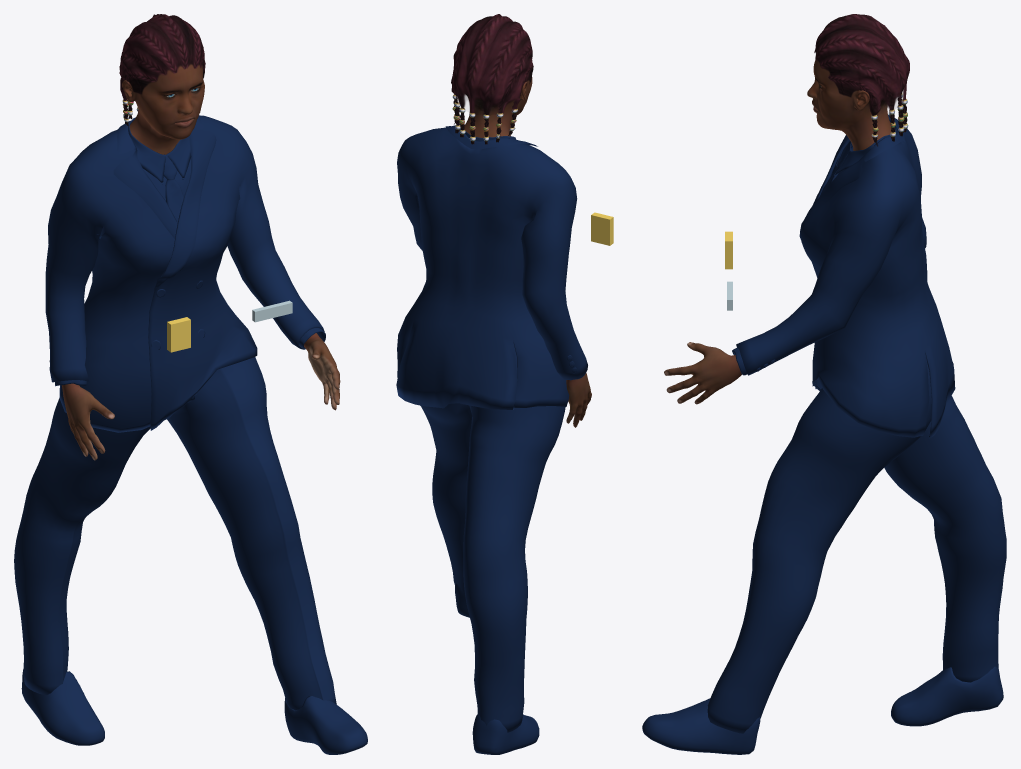
Rendered from polizia-donna.glb.
3 views of the same model, side by side, from view 1: azimuth 30°, elevation 25°; view 2: azimuth 150°, elevation 25°; view 3: azimuth 270°, elevation 25° (orthographic). The views are drawn at different scales.
Visible parts, largest first — view 1: Human.toigo_female_double-breasted_suit, Human, Human.shoes05, Human.elvs_braided_rows, Distintivo; view 2: Human.toigo_female_double-breasted_suit, Human.elvs_braided_rows, Human, Human.shoes05, Distintivo; view 3: Human.toigo_female_double-breasted_suit, Human.shoes05, Human.elvs_braided_rows, Human.
Boxes of the visible parts, x1,y1,x2,y2 form: Human.toigo_female_double-breasted_suit: (14, 115, 336, 710); Human: (62, 64, 340, 460); Human.shoes05: (21, 669, 367, 754); Human.elvs_braided_rows: (119, 14, 205, 125); Distintivo: (167, 317, 190, 352); Human.toigo_female_double-breasted_suit: (396, 124, 587, 732); Human.elvs_braided_rows: (451, 14, 533, 144); Human: (464, 77, 591, 427); Human.shoes05: (455, 583, 539, 754); Distintivo: (591, 212, 613, 245); Human.toigo_female_double-breasted_suit: (707, 114, 1006, 733); Human.shoes05: (642, 666, 1003, 754); Human.elvs_braided_rows: (814, 14, 909, 146); Human: (664, 60, 895, 404).
Size of the model in its own units: 0.5107 by 1.68 by 0.7582.
Materials: 14 (10 with a texture image).
